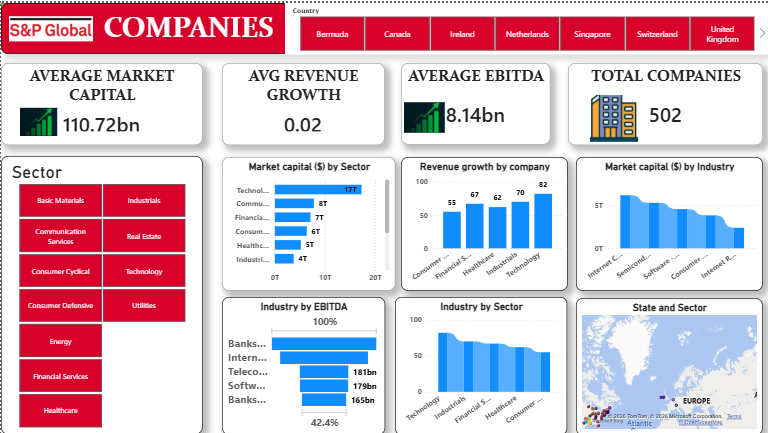

The page's visual inventory and layout, read from the dashboard file:
{"tool":"powerbi","page":{"name":"Companies Dahboard","canvas":[1280,720],"ordinal":0},"visuals":[{"type":"shape","box":[0,0,1280,72.2],"z":0},{"type":"textbox","box":[0,0,1280,85],"z":1000},{"type":"cardVisual","title":"AVERAGE MARKET CAPITAL","fields":{"Data":["Avg(sp500_companies.Market capital ($))"]},"box":[0,100.8,335.5,136.8],"z":2000},{"type":"cardVisual","title":"AVG REVENUE GROWTH","fields":{"Data":["Avg(sp500_companies.Revenue growth(%))"]},"box":[368.6,100.8,270.7,136.8],"z":3000},{"type":"cardVisual","title":"AVERAGE EBITDA","fields":{"Data":["Avg(sp500_companies.Ebitda ($))"]},"box":[666.9,100.8,248.6,136.1],"z":4000},{"type":"barChart","title":"Market capital ($) by Sector","fields":{"Category":["sp500_companies.Sector"],"Y":["Sum(sp500_companies.Market capital ($))"]},"box":[368.6,256.3,289.4,223.2],"z":5000},{"type":"lineStackedColumnComboChart","title":"Revenue growth by company","fields":{"Category":["sp500_companies.Sector","sp500_companies.Revenue growth(%)"],"Y":["CountNonNull(sp500_companies.Revenue growth(%))"]},"box":[666.7,256.3,277.9,223.2],"z":6000},{"type":"map","fields":{"Category":["sp500_companies.State"],"Series":["sp500_companies.Sector"]},"box":[959,491,311,229],"z":7000},{"type":"ribbonChart","title":"Market capital ($) by Industry","fields":{"Category":["sp500_companies.Industry"],"Y":["Sum(sp500_companies.Market capital ($))"]},"box":[959,256.3,311,223.2],"z":8000},{"type":"image","box":[13,10.1,139.7,66.2],"z":9000},{"type":"cardVisual","title":"TOTAL COMPANIES","fields":{"Data":["CountNonNull(sp500_companies.Sector)"]},"box":[944.6,100.8,325.4,136.8],"z":10000},{"type":"image","box":[31.9,166.3,62.2,63.8],"z":11000},{"type":"image","box":[672.5,158.4,67.7,64.8],"z":12000},{"type":"image","box":[976.3,152.6,89.3,77.8],"z":14000},{"type":"ribbonChart","title":"Industry by Sector","fields":{"Category":["sp500_companies.Sector"],"Y":["CountNonNull(sp500_companies.Industry)"]},"box":[656.8,490.5,287.2,230.1],"z":15000},{"type":"funnel","title":"Industry by EBITDA","fields":{"Y":["Sum(sp500_companies.Ebitda ($))"],"Category":["sp500_companies.Industry"]},"box":[367.9,490.5,272.1,230.1],"z":16000},{"type":"slicer","fields":{"Values":["sp500_companies.Sector"]},"box":[0,255.3,336,463.6],"z":17000},{"type":"slicer","fields":{"Values":["sp500_companies.Country"]},"box":[473.7,0,806.3,85.7],"z":18000}]}

Visuals, with their boxes in screenshot pixels (x1, y1, x2, y2), scaled from the page's 1280x720 canvas onto the 768x433 screenshot:
shape: <box>0,0,767,43</box>
textbox: <box>0,0,767,51</box>
"AVERAGE MARKET CAPITAL" cardVisual: <box>0,61,201,143</box>
"AVG REVENUE GROWTH" cardVisual: <box>221,61,384,143</box>
"AVERAGE EBITDA" cardVisual: <box>400,61,549,142</box>
"Market capital ($) by Sector" barChart: <box>221,154,395,288</box>
"Revenue growth by company" lineStackedColumnComboChart: <box>400,154,567,288</box>
map - sp500_companies.State x sp500_companies.Sector: <box>575,295,762,432</box>
"Market capital ($) by Industry" ribbonChart: <box>575,154,762,288</box>
image: <box>8,6,92,46</box>
"TOTAL COMPANIES" cardVisual: <box>567,61,762,143</box>
image: <box>19,100,56,138</box>
image: <box>404,95,444,134</box>
image: <box>586,92,639,139</box>
"Industry by Sector" ribbonChart: <box>394,295,566,432</box>
"Industry by EBITDA" funnel: <box>221,295,384,432</box>
slicer - sp500_companies.Sector: <box>0,154,202,432</box>
slicer - sp500_companies.Country: <box>284,0,767,52</box>
